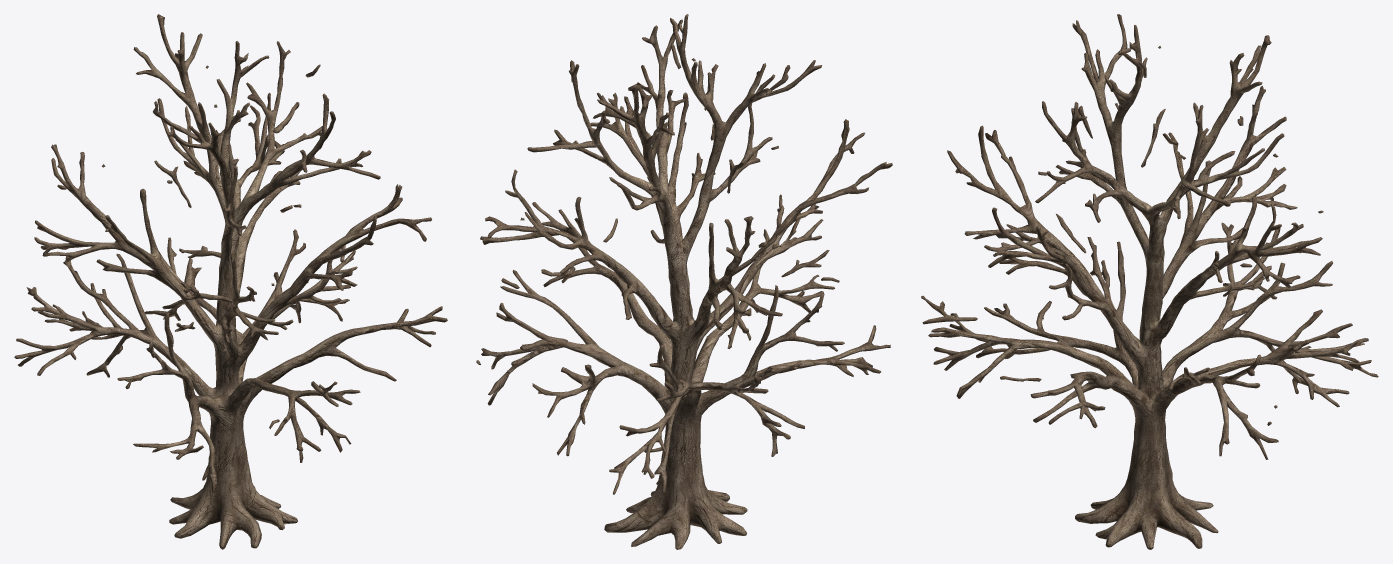
The model's file is oak_tree.glb.
The picture shows the model from 3 angles, left to right: view 1: azimuth 30°, elevation 25°; view 2: azimuth 150°, elevation 25°; view 3: azimuth 270°, elevation 25°; orthographic projection. The views are drawn at different scales.
Size of the model in its own units: 1.33 by 1.91 by 1.57.
Materials: 1 (1 with a texture image).
